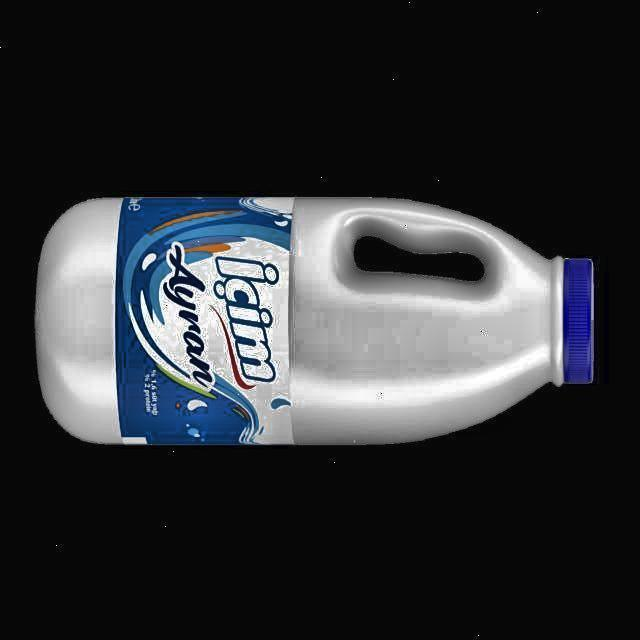plastic: (34, 197, 594, 444)
